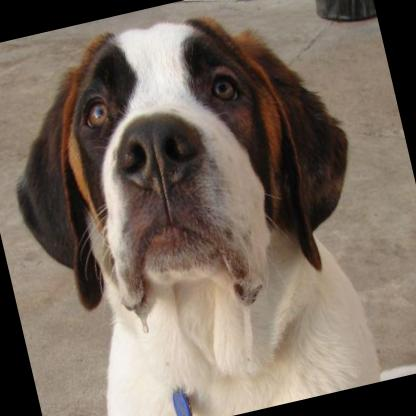Saint_Bernard: (0, 0, 401, 416)
